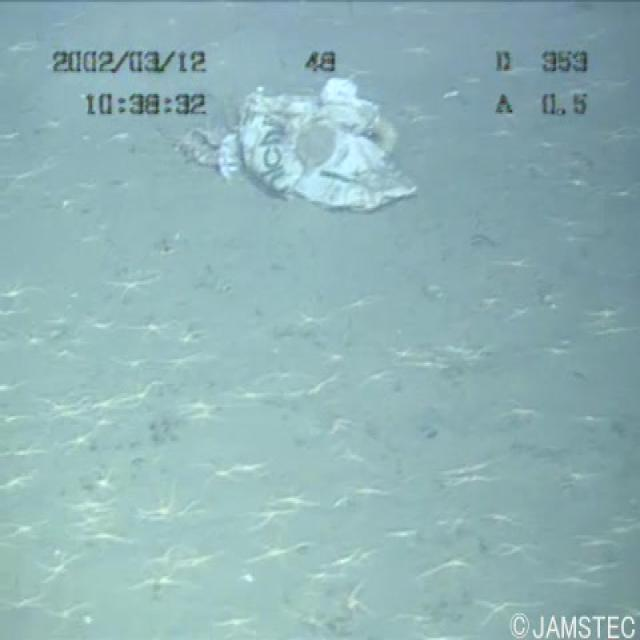plastic: (144, 64, 423, 222)
